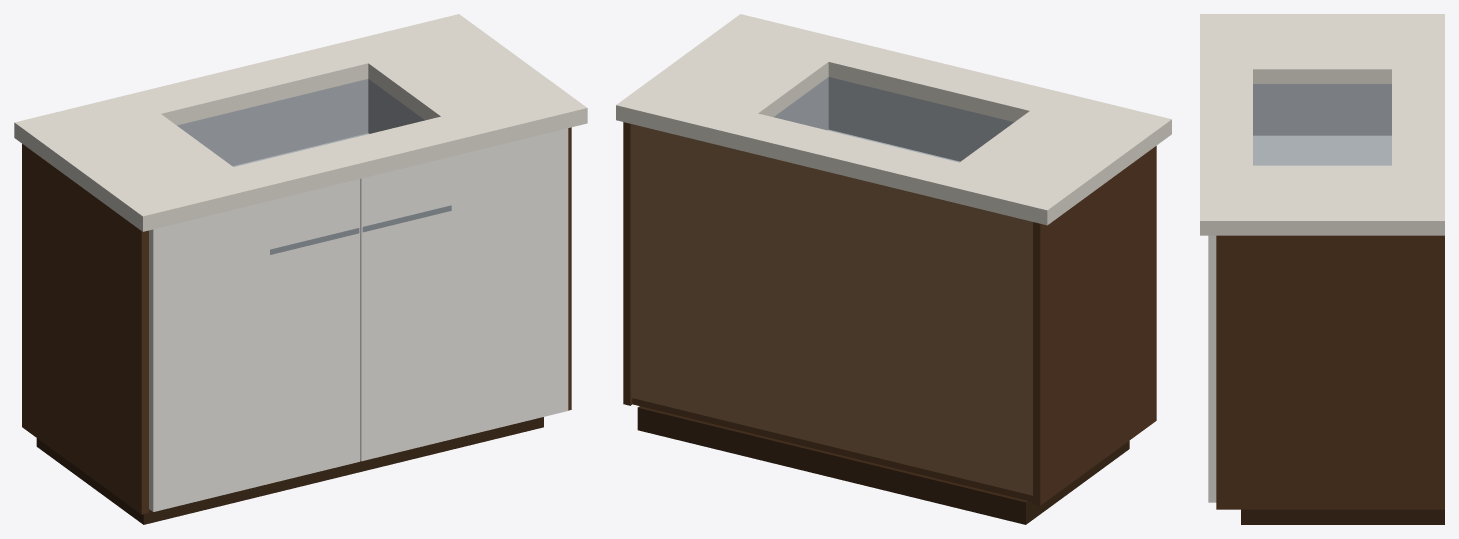
The model's file is kitchensink.glb.
3 renders of one model, left to right at view 1: azimuth 30°, elevation 25°; view 2: azimuth 150°, elevation 25°; view 3: azimuth 270°, elevation 25°, orthographic. The views are drawn at different scales.
Parts seen in each view (by area): view 1: material-1-door, material-0-top, material-2-body, material-6-sink, material-4-base, material-3-metal; view 2: material-5-interior, material-0-top, material-2-body, material-4-base, material-6-sink; view 3: material-2-body, material-0-top, material-6-sink, material-4-base, material-1-door.
Boxes of the visible parts, x1=… form: material-1-door: x1=149, y1=128, x2=568, y2=511; material-0-top: x1=14, y1=14, x2=587, y2=231; material-2-body: x1=22, y1=127, x2=571, y2=514; material-6-sink: x1=177, y1=79, x2=424, y2=166; material-4-base: x1=36, y1=417, x2=543, y2=524; material-3-metal: x1=270, y1=205, x2=451, y2=254; material-5-interior: x1=631, y1=124, x2=1032, y2=495; material-0-top: x1=616, y1=14, x2=1171, y2=225; material-2-body: x1=623, y1=122, x2=1156, y2=505; material-4-base: x1=637, y1=406, x2=1129, y2=524; material-6-sink: x1=774, y1=77, x2=1014, y2=162; material-2-body: x1=1216, y1=235, x2=1444, y2=509; material-0-top: x1=1200, y1=14, x2=1444, y2=235; material-6-sink: x1=1253, y1=84, x2=1391, y2=165; material-4-base: x1=1241, y1=509, x2=1444, y2=524; material-1-door: x1=1208, y1=235, x2=1216, y2=502.
Bounding box in the file's own units: 1.2 × 0.85 × 0.6.
